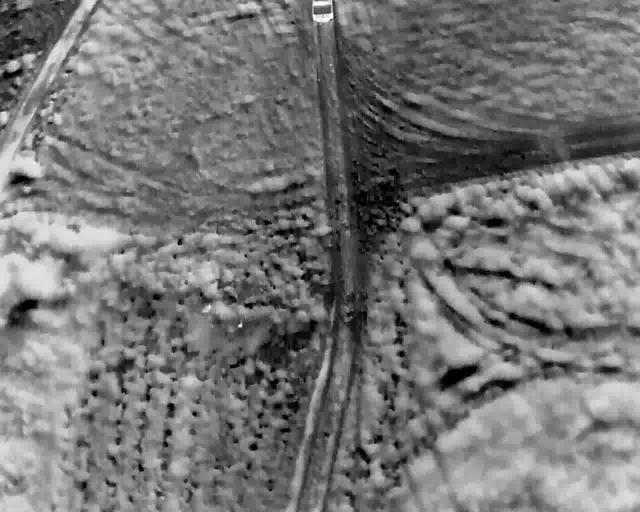car: (311, 0, 335, 24)
